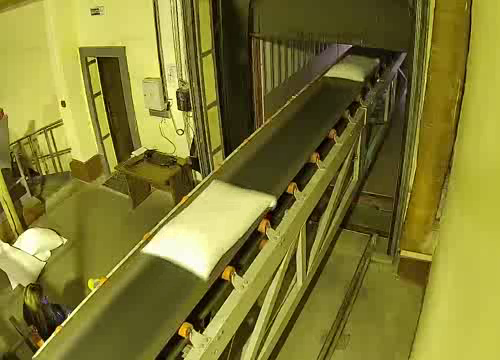bag: (135, 175, 281, 283), (321, 50, 388, 85)
